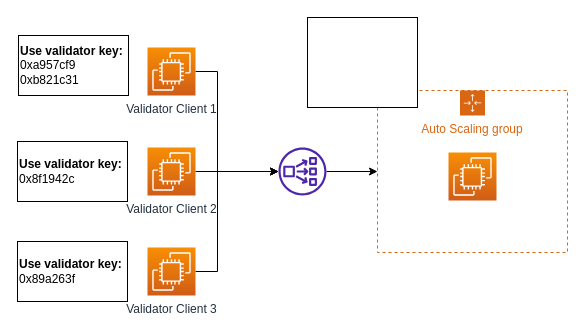
This 585x334 diagram has some shape labels left out. Each missing label, with the centre of its shape:
EC2 Instances (Web3Signer in Nitro Enclave): (472,176)
Validator Public Keys loaded: 0xa957cf9 0xb821c31 0x8f1942c 0x89a263f: (362,62)
Web3Signer Load Balancer: (302,171)
